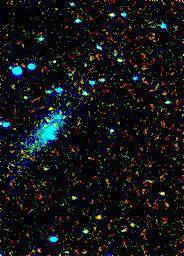star: (35, 95, 65, 125)
